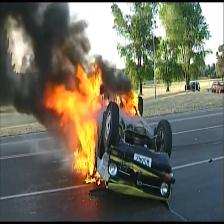fire: (43, 58, 146, 196)
smoke: (0, 4, 84, 127)
